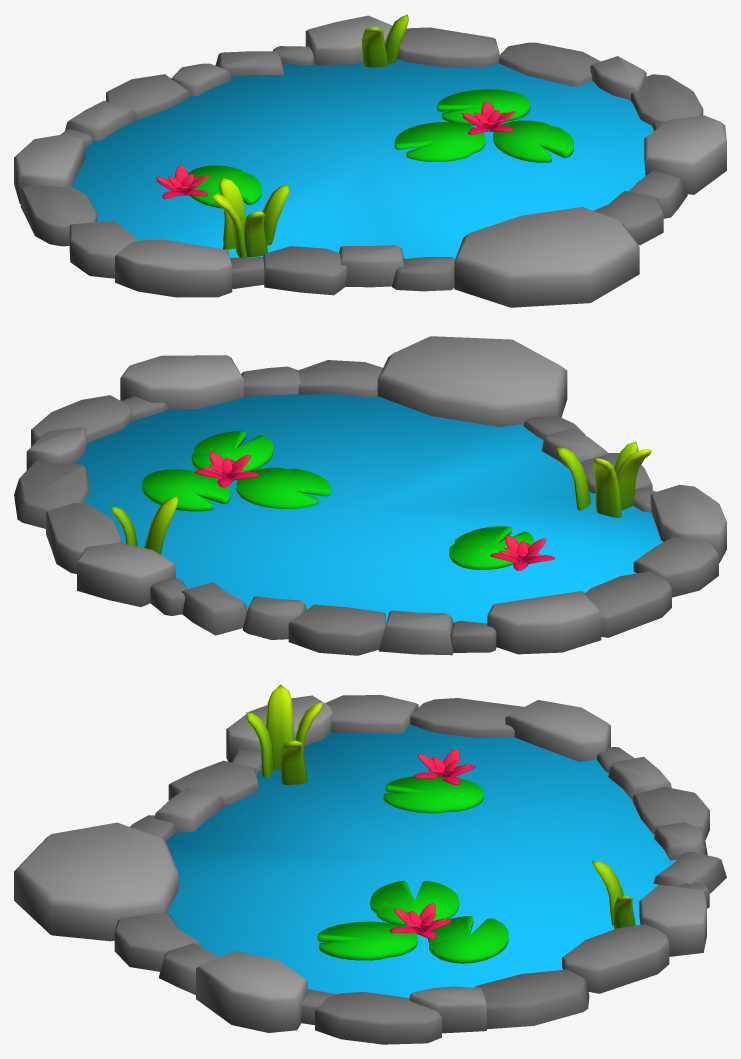
Rendered from Props_Pond_01.fbx.
3 views of the same model, one above another, from view 1: azimuth 30°, elevation 25°; view 2: azimuth 150°, elevation 25°; view 3: azimuth 270°, elevation 25° (orthographic). The views are drawn at different scales.
Visible parts, largest first — view 1: Props_Pond_01; view 2: Props_Pond_01; view 3: Props_Pond_01.
Boxes of the visible parts, box(x1,y1,x2,y2) form: Props_Pond_01: box(14, 14, 726, 307); Props_Pond_01: box(14, 336, 726, 655); Props_Pond_01: box(14, 684, 726, 1044).
Bounding box in the file's own units: 585 × 70.09 × 541.
